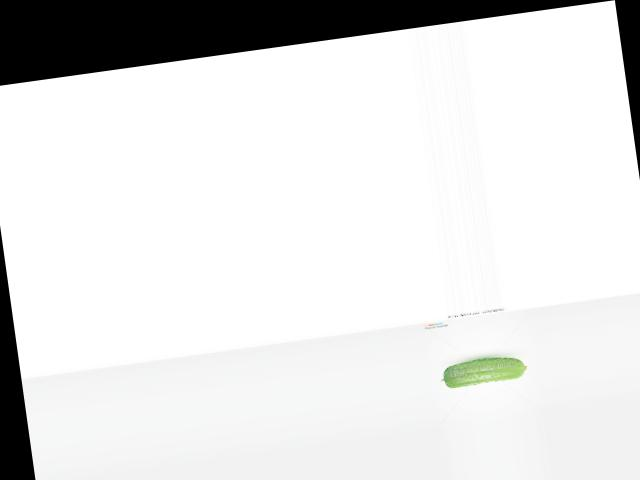cucumber: (438, 352, 529, 389)
